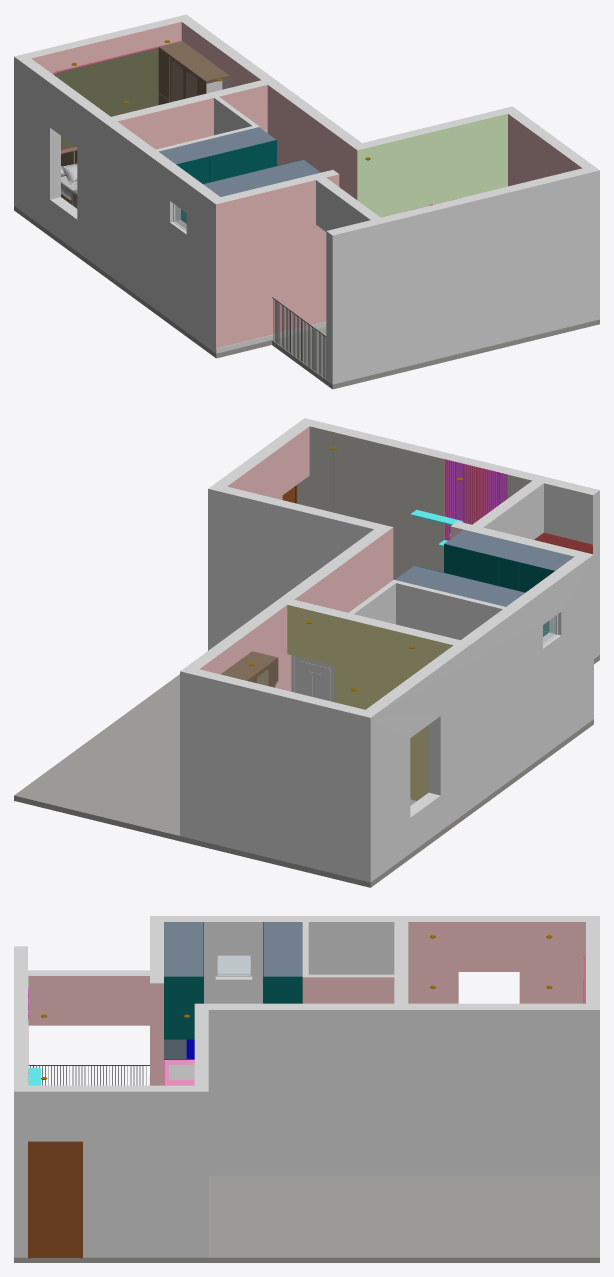
3 views of the same model, one above another, from view 1: azimuth 30°, elevation 25°; view 2: azimuth 150°, elevation 25°; view 3: azimuth 270°, elevation 25° (orthographic). The views are drawn at different scales.
Visible parts, largest first — view 1: Combined mesh; view 2: Combined mesh; view 3: Combined mesh.
Part boxes in pixels (box(x1,y1,x2,y2)): Combined mesh: box(14, 14, 599, 389); Combined mesh: box(14, 418, 599, 887); Combined mesh: box(14, 916, 599, 1262).
Size of the model in its own units: 683 by 310 by 960.
